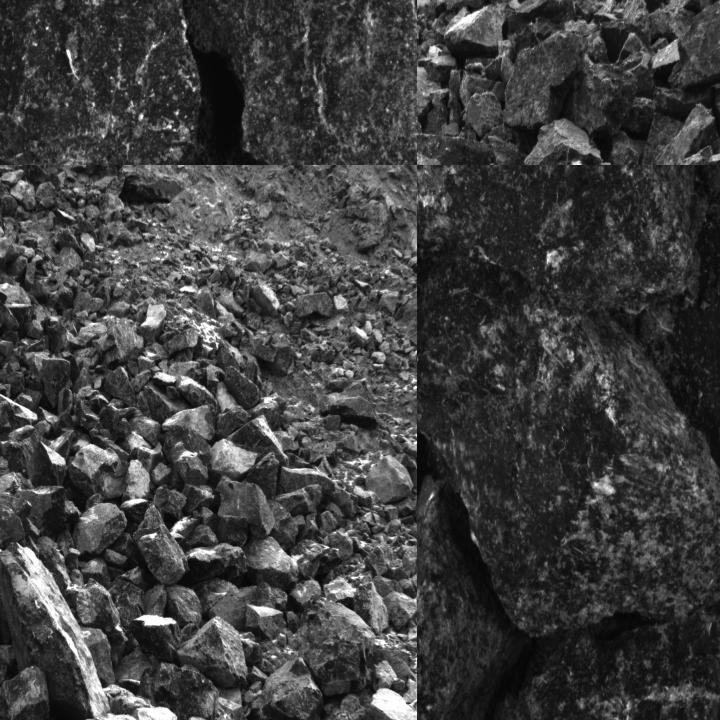stone: (417, 251, 719, 635), (417, 165, 711, 307), (191, 0, 416, 164), (0, 0, 201, 164), (469, 607, 719, 719), (417, 472, 525, 719), (0, 542, 111, 719), (504, 33, 584, 128), (302, 599, 373, 701), (560, 45, 638, 136), (178, 617, 248, 686), (138, 662, 218, 719), (668, 1, 719, 89), (655, 105, 719, 164), (263, 659, 323, 719), (133, 524, 189, 588), (217, 476, 275, 537), (442, 5, 505, 61), (524, 118, 600, 164), (68, 445, 126, 501), (227, 414, 289, 466), (72, 503, 129, 558), (218, 339, 262, 408), (240, 537, 299, 587), (197, 580, 259, 626), (164, 426, 212, 483), (318, 379, 377, 425), (1, 664, 50, 719), (132, 614, 185, 661), (210, 439, 260, 488), (186, 544, 246, 584), (364, 458, 414, 503), (291, 539, 341, 579), (96, 322, 143, 364), (353, 583, 390, 634), (27, 442, 68, 488), (466, 90, 504, 139), (120, 174, 185, 202), (0, 498, 25, 563), (417, 65, 442, 127), (167, 585, 203, 627), (650, 37, 681, 83), (293, 292, 333, 320)
